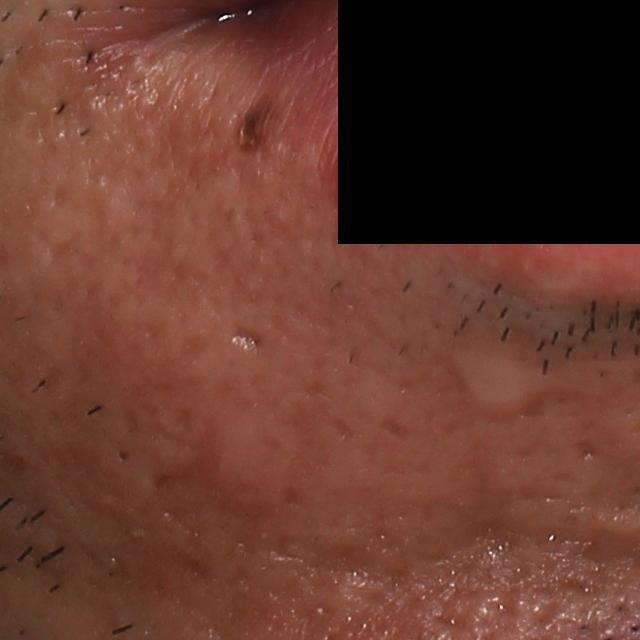atrophic_scar: (452, 520, 544, 587), (50, 185, 113, 242), (303, 542, 374, 590), (228, 326, 268, 354), (329, 417, 361, 447), (379, 414, 407, 441), (575, 438, 596, 463)
hypertrophic_scar: (50, 262, 343, 539), (449, 347, 558, 414), (313, 569, 377, 623)
nevus: (236, 96, 288, 160)
